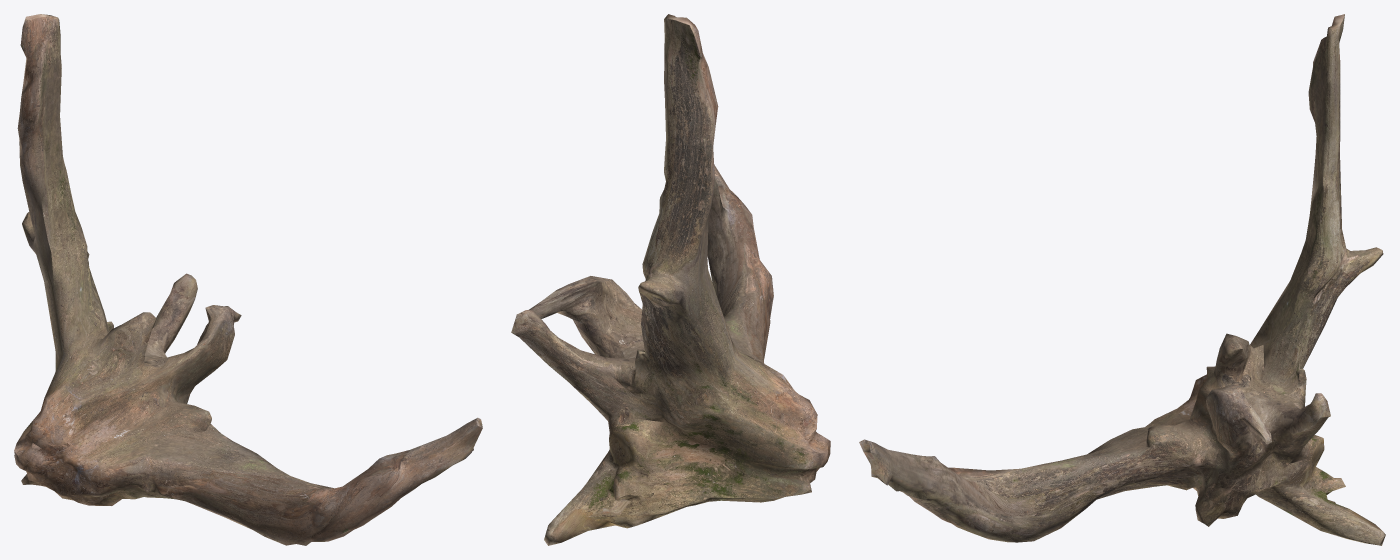
The model's file is SM_TreeStump_04_01.fbx.
3 views of the same model, side by side, from view 1: azimuth 30°, elevation 25°; view 2: azimuth 150°, elevation 25°; view 3: azimuth 270°, elevation 25° (orthographic). The views are drawn at different scales.
Visible parts, largest first — view 1: sm_TreeStump_04_01_LOD0; view 2: sm_TreeStump_04_01_LOD0; view 3: sm_TreeStump_04_01_LOD0.
Boxes of the visible parts, x1=… form: sm_TreeStump_04_01_LOD0: x1=14, y1=14, x2=482, y2=545; sm_TreeStump_04_01_LOD0: x1=511, y1=14, x2=830, y2=545; sm_TreeStump_04_01_LOD0: x1=859, y1=14, x2=1385, y2=545.
Size of the model in its own units: 130 by 88.95 by 131.
